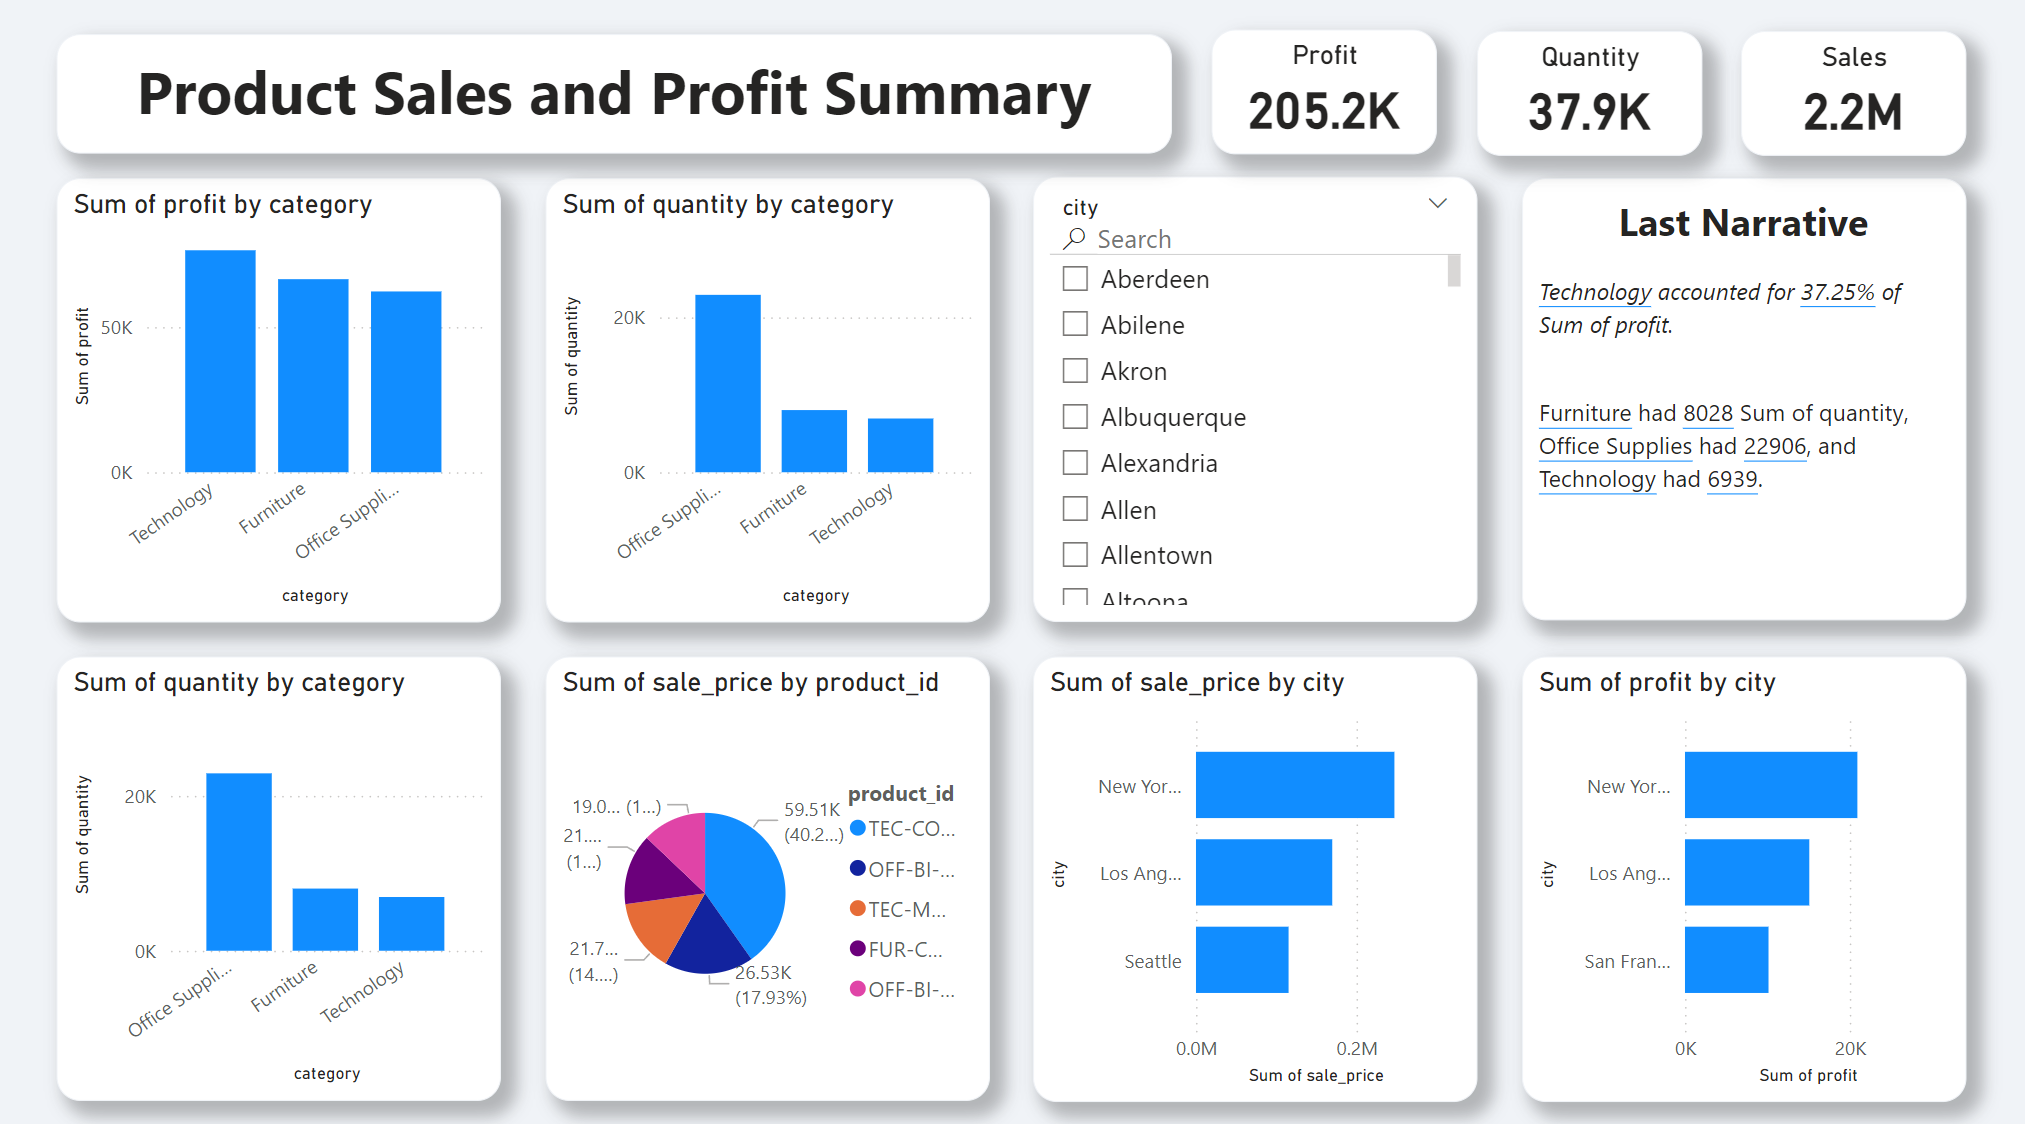

This screenshot's page, from the dashboard's own definition file:
{"tool":"powerbi","page":{"name":"Page 1","canvas":[1280,720],"ordinal":0},"visuals":[{"type":"columnChart","fields":{"Category":["public afra_pd.category"],"Y":["Sum(public afra_pd.profit)"]},"box":[36.9,122.8,279.7,279.7],"z":0},{"type":"columnChart","fields":{"Category":["public afra_pd.category"],"Y":["Sum(public afra_pd.quantity)"]},"box":[344.9,122.8,279.7,279.7],"z":1000},{"type":"slicer","fields":{"Values":["public afra_pd.city"]},"box":[652,121.9,279.7,280.6],"z":2000},{"type":"columnChart","fields":{"Category":["public afra_pd.category"],"Y":["Sum(public afra_pd.quantity)"]},"box":[36.9,424.3,279.7,279.7],"z":3000},{"type":"textbox","box":[960,122.8,279.7,278.7],"z":4000},{"type":"pieChart","fields":{"Category":["public afra_pd.product_id"],"Y":["Sum(public afra_pd.sale_price)"]},"box":[344.6,424.3,279.7,279.7],"z":5000},{"type":"clusteredBarChart","fields":{"Category":["public afra_pd.city"],"Y":["Sum(public afra_pd.sale_price)"]},"box":[652.3,424.3,279.7,280.6],"z":6000},{"type":"clusteredBarChart","fields":{"Category":["public afra_pd.city"],"Y":["Sum(public afra_pd.profit)"]},"box":[960,424.3,279.7,280.6],"z":7000},{"type":"card","title":"Profit","fields":{"Values":["Sum(public afra_pd.profit)"]},"box":[764.7,29.3,141.7,78.4],"z":8000},{"type":"card","title":"Quantity","fields":{"Values":["Sum(public afra_pd.quantity)"]},"box":[931.3,30.2,141.7,78.4],"z":9000},{"type":"card","title":"Sales","fields":{"Values":["Sum(public afra_pd.sale_price)"]},"box":[1098,30.2,141.7,78.4],"z":10000},{"type":"textbox","box":[36.9,32.1,703,75.6],"z":11000}]}

Visuals, with their boxes in screenshot pixels (x1, y1, x2, y2), scaled from the page's 1280x720 canvas onto the 2025x1124 screenshot:
columnChart - public afra_pd.category x Sum(public afra_pd.profit): pyautogui.locateOnScreen(58, 192, 501, 628)
columnChart - public afra_pd.category x Sum(public afra_pd.quantity): pyautogui.locateOnScreen(546, 192, 988, 628)
slicer - public afra_pd.city: pyautogui.locateOnScreen(1031, 190, 1474, 628)
columnChart - public afra_pd.category x Sum(public afra_pd.quantity): pyautogui.locateOnScreen(58, 662, 501, 1099)
textbox: pyautogui.locateOnScreen(1519, 192, 1961, 627)
pieChart - public afra_pd.product_id x Sum(public afra_pd.sale_price): pyautogui.locateOnScreen(545, 662, 988, 1099)
clusteredBarChart - public afra_pd.city x Sum(public afra_pd.sale_price): pyautogui.locateOnScreen(1032, 662, 1474, 1100)
clusteredBarChart - public afra_pd.city x Sum(public afra_pd.profit): pyautogui.locateOnScreen(1519, 662, 1961, 1100)
"Profit" card: pyautogui.locateOnScreen(1210, 46, 1434, 168)
"Quantity" card: pyautogui.locateOnScreen(1473, 47, 1698, 170)
"Sales" card: pyautogui.locateOnScreen(1737, 47, 1961, 170)
textbox: pyautogui.locateOnScreen(58, 50, 1171, 168)
